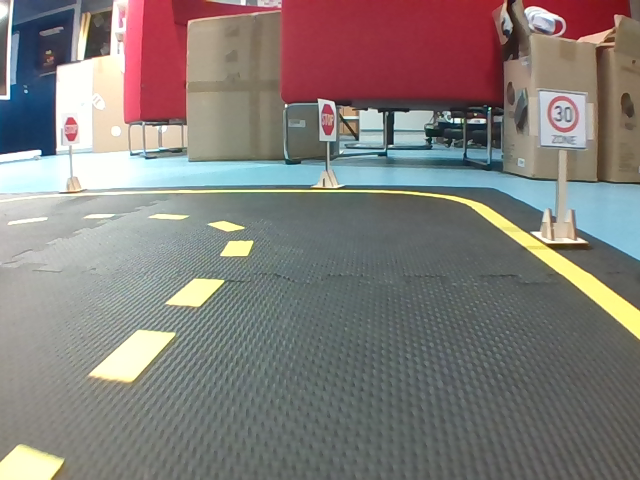30: (541, 91, 586, 150)
stop: (318, 98, 336, 140), (62, 114, 80, 146)
